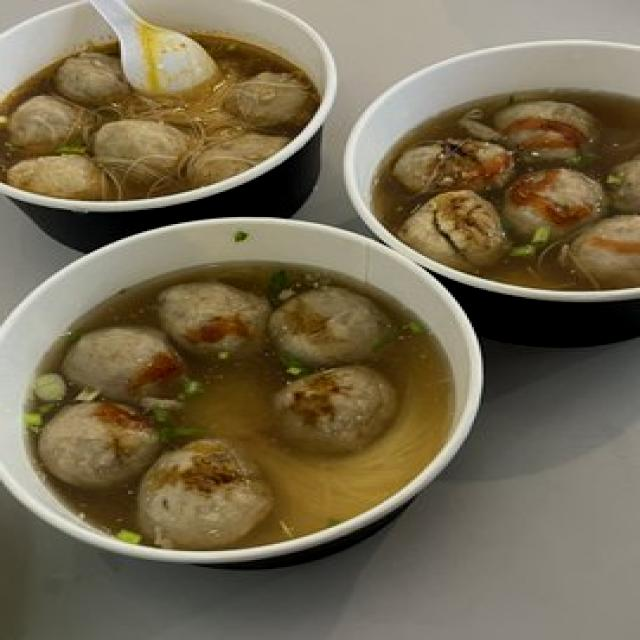bakso: (21, 260, 457, 567), (0, 0, 320, 204), (367, 89, 640, 297)
